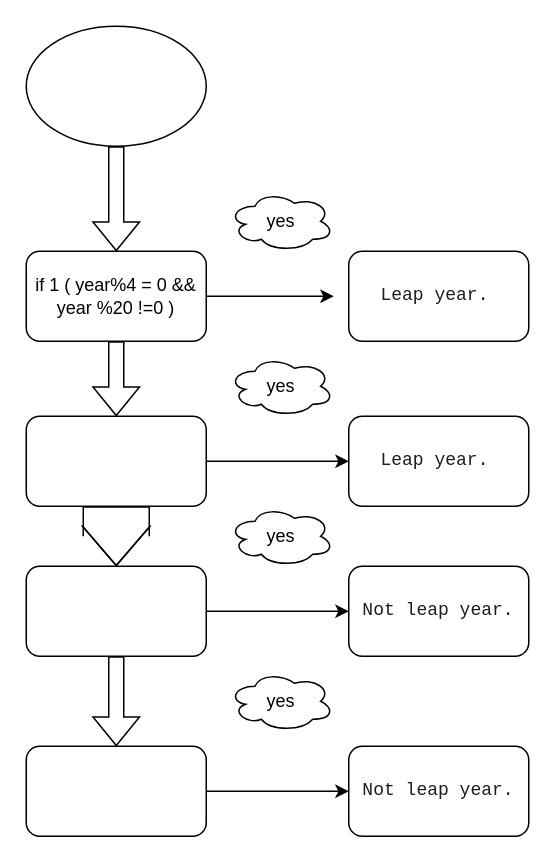
This 555x863 diagram has some shape labels left out. Each missing label, with the box of its shape:
first input (year): (25, 25, 206, 146)
if (year%4=0 && year % 20 =0 &&: (25, 565, 206, 656)
if (year%4=0 && year % 20 =0 && year %400 =0: (25, 415, 206, 506)
if 1 ( year%4 != 0 ): (25, 745, 206, 836)
